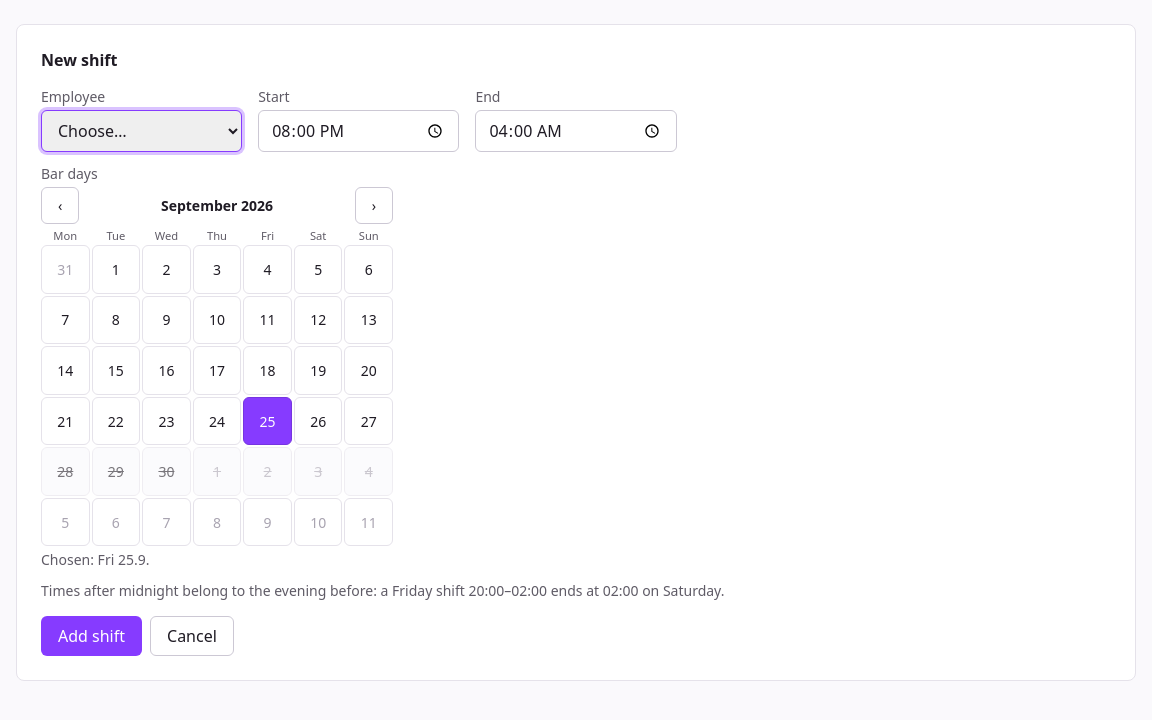
Test: clicking a chosen day removes it; with no days nothing can be added
Click the button "25" at (268, 421), box [243,397,292,445]
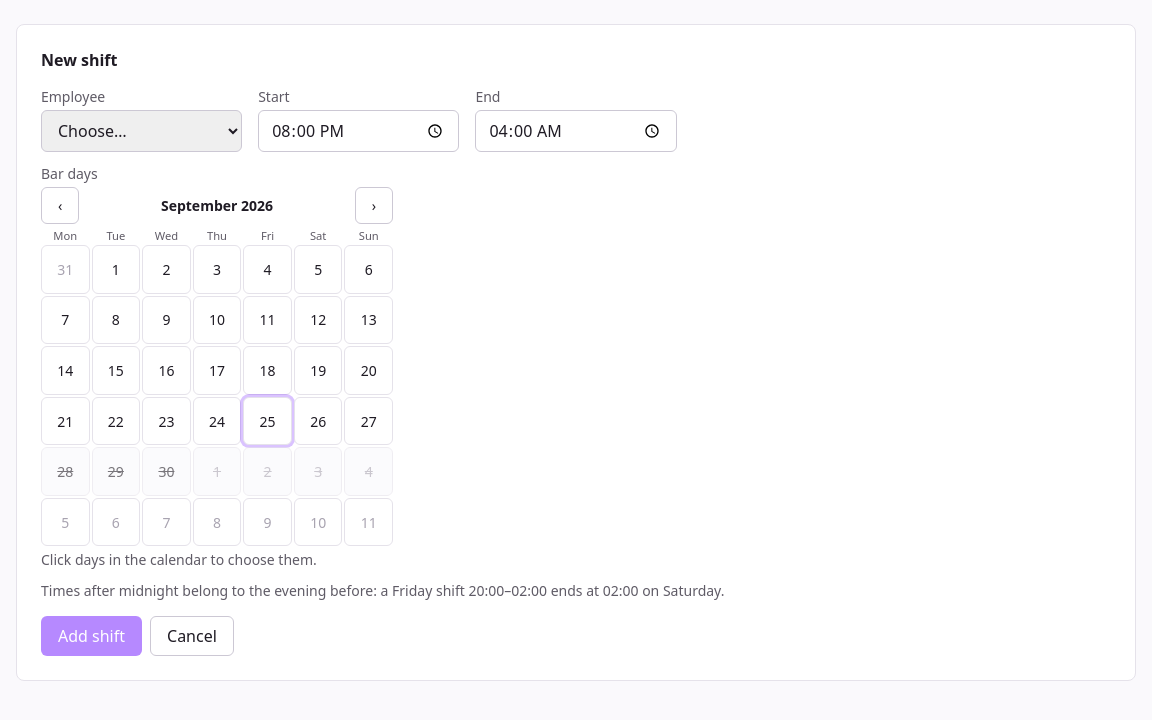
Now the button "Add shift" is disabled, box [41,616,142,656]
